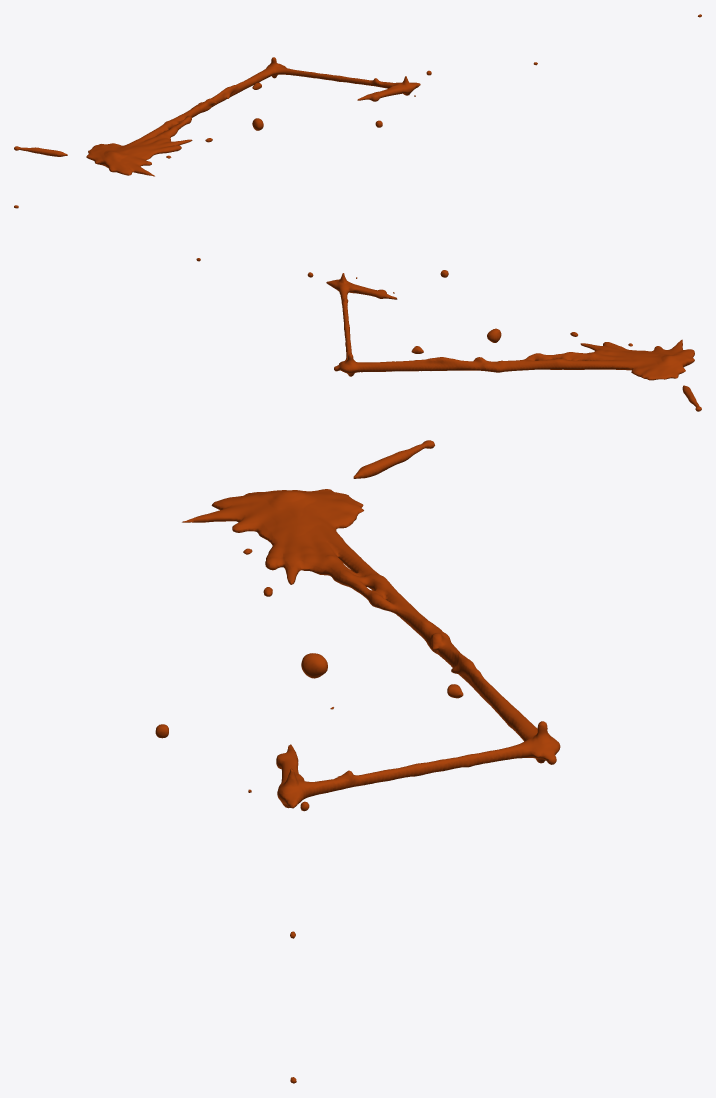
The model's file is iso_0.01_draco.glb.
3 renders of one model, top to bottom at view 1: azimuth 30°, elevation 25°; view 2: azimuth 150°, elevation 25°; view 3: azimuth 270°, elevation 25°, orthographic. The views are drawn at different scales.
Parts seen in each view (by area): view 1: Renderer Node; view 2: Renderer Node; view 3: Renderer Node.
Boxes of the visible parts, x1=… form: Renderer Node: x1=14, y1=14, x2=701, y2=176; Renderer Node: x1=14, y1=205, x2=701, y2=411; Renderer Node: x1=155, y1=440, x2=560, y2=1083.
Bounding box in the file's own units: 1.88e+09 × 9.5e+07 × 5.05e+08.
Materials: 1 (1 with a texture image).
